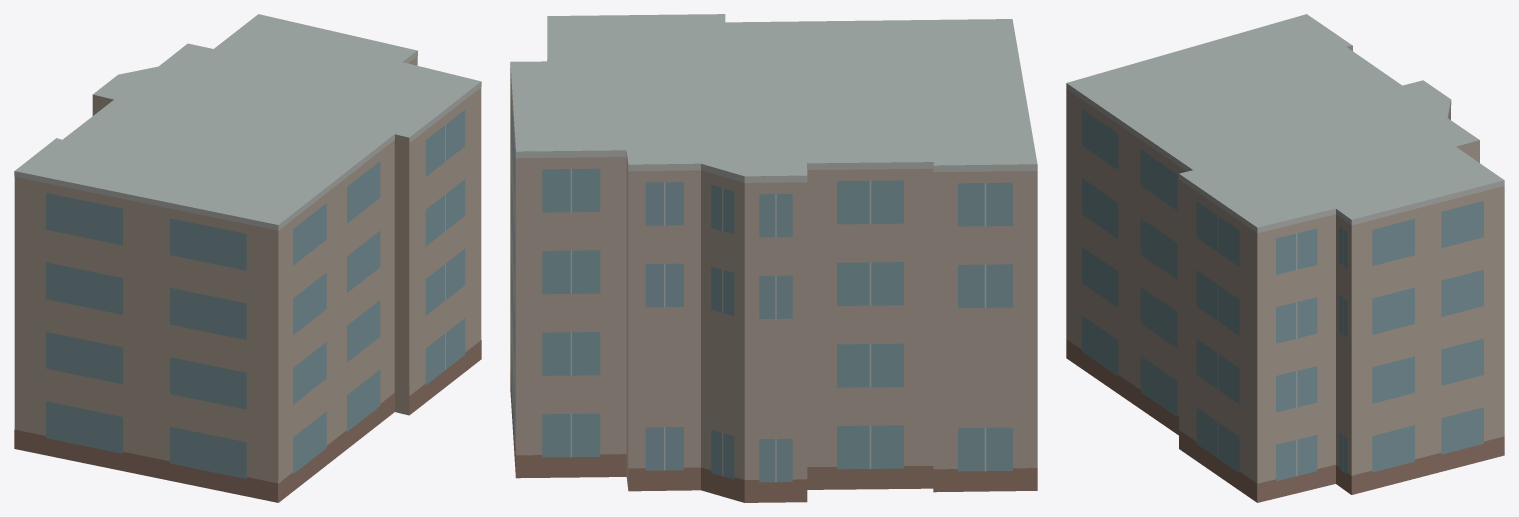
File: survey-upis-32459425.glb
3 renders of one model, left to right at view 1: azimuth 30°, elevation 25°; view 2: azimuth 150°, elevation 25°; view 3: azimuth 270°, elevation 25°, orthographic. The views are drawn at different scales.
Parts seen in each view (by area): view 1: survey-upis-32459425.tmp; view 2: survey-upis-32459425.tmp; view 3: survey-upis-32459425.tmp.
Part boxes in pixels (x1=…): survey-upis-32459425.tmp: x1=14, y1=14, x2=481, y2=502; survey-upis-32459425.tmp: x1=510, y1=14, x2=1037, y2=502; survey-upis-32459425.tmp: x1=1066, y1=14, x2=1504, y2=502.
Bounding box in the file's own units: 19.99 × 12 × 17.33.
